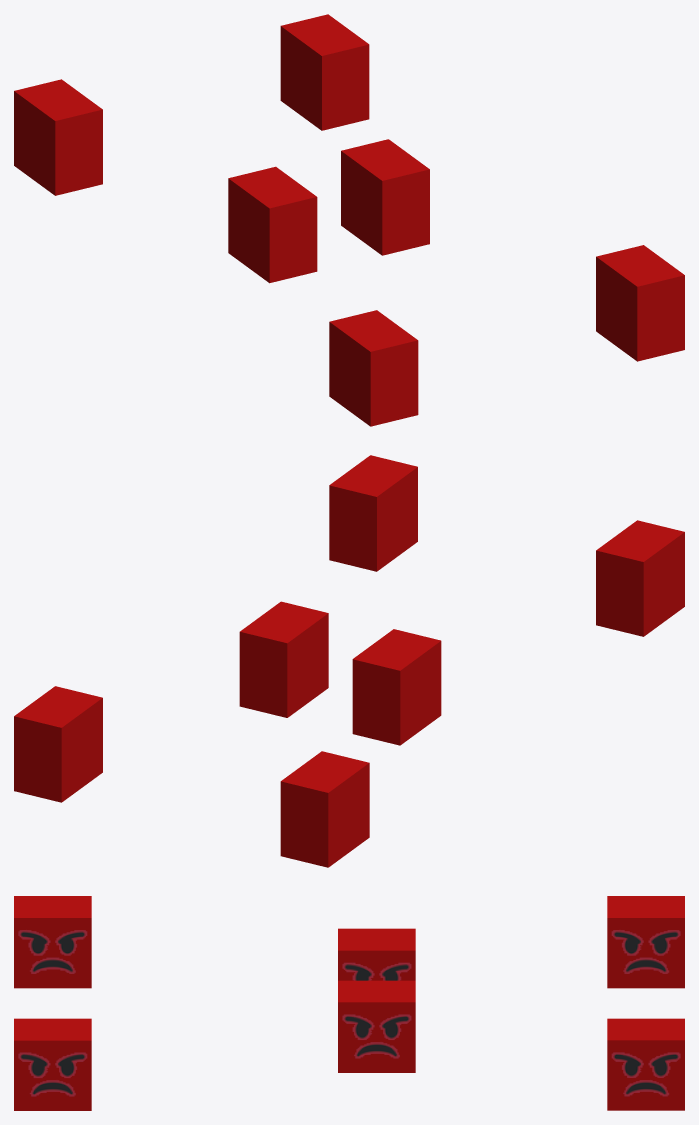
Rendered from Enemies.fbx.
The picture shows the model from 3 angles, top to bottom: view 1: azimuth 30°, elevation 25°; view 2: azimuth 150°, elevation 25°; view 3: azimuth 270°, elevation 25°; orthographic projection. The views are drawn at different scales.
Visible parts, largest first — view 1: Enemy5, Enemy1, Enemy3, Enemy2, Enemy4, Enemy6; view 2: Enemy6, Enemy1, Enemy2, Enemy3, Enemy4, Enemy5; view 3: Enemy2, Enemy3, Enemy4, Enemy5, Enemy6, Enemy1.
Part boxes in pixels (left/top/right/bottom): Enemy5: left=329, top=310, right=418, bottom=426; Enemy1: left=228, top=166, right=317, bottom=283; Enemy3: left=280, top=14, right=369, bottom=130; Enemy2: left=341, top=139, right=429, bottom=255; Enemy4: left=596, top=245, right=684, bottom=361; Enemy6: left=14, top=79, right=102, bottom=195; Enemy6: left=280, top=751, right=369, bottom=867; Enemy1: left=352, top=629, right=441, bottom=745; Enemy2: left=239, top=601, right=328, bottom=717; Enemy3: left=14, top=686, right=102, bottom=802; Enemy4: left=329, top=455, right=417, bottom=571; Enemy5: left=596, top=520, right=684, bottom=636; Enemy2: left=338, top=980, right=415, bottom=1072; Enemy3: left=607, top=1018, right=684, bottom=1110; Enemy4: left=14, top=1018, right=91, bottom=1110; Enemy5: left=14, top=896, right=91, bottom=988; Enemy6: left=607, top=896, right=684, bottom=988; Enemy1: left=338, top=928, right=415, bottom=980.
Size of what is drawn, in the model's own units: 19.8 by 4.5 by 38.88.
